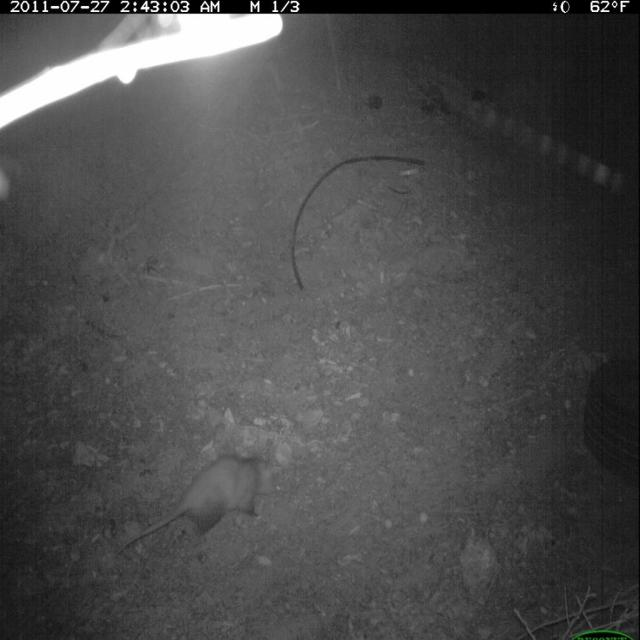opossum: (107, 459, 284, 571)
